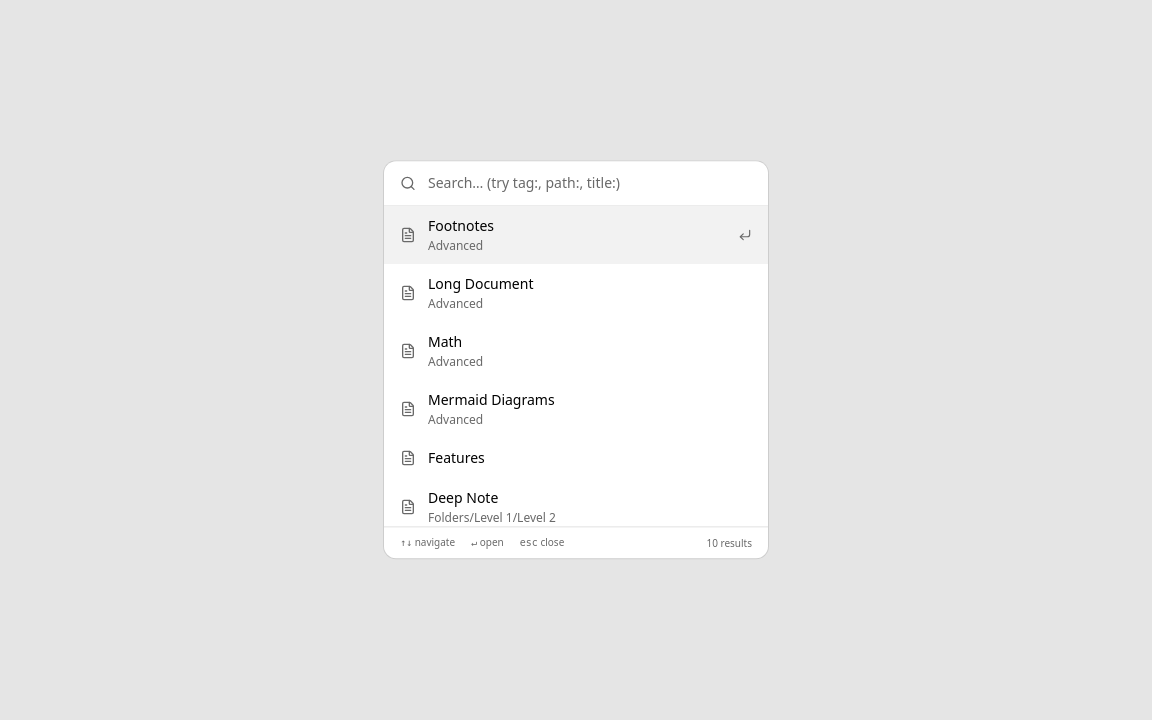
SearchDialog › shows an empty state for nonsense queries
The image size is (1152, 720).
In the field with placeholder "Search… (try tag:, path:, title:)": (590, 183) left=428, top=173, right=752, bottom=193, type "zzzqqqxxx-no-such-thing"
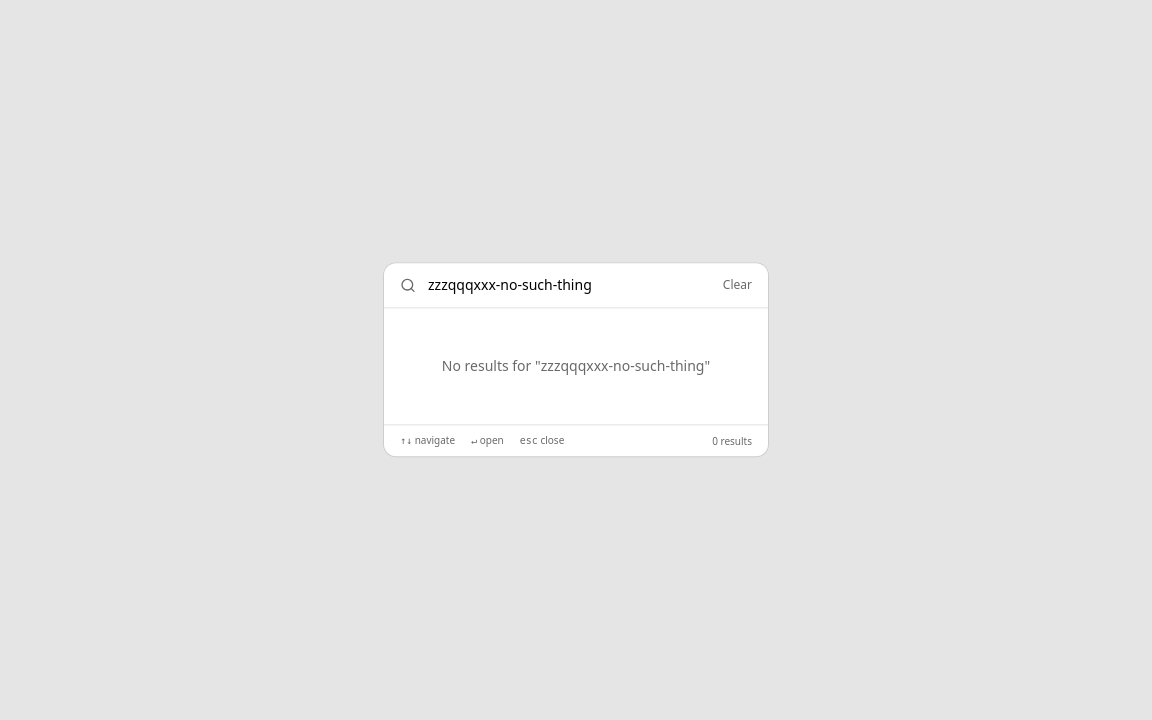
Check: the text "No results for \"zzzqqqxxx-no-such-thing\"" is shown, box left=442, top=356, right=710, bottom=375
